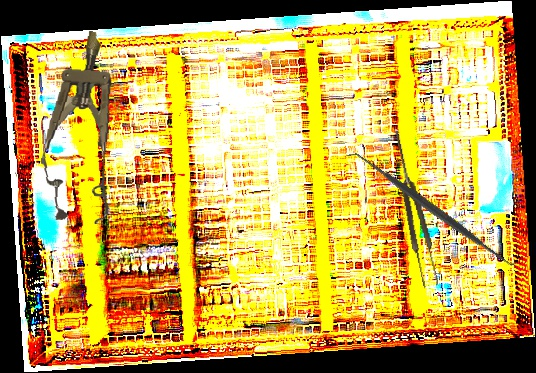Spatula Surgical: (344, 141, 520, 277)
Speculum: (35, 27, 131, 226)
Tissue Forceps: (387, 126, 441, 290)
